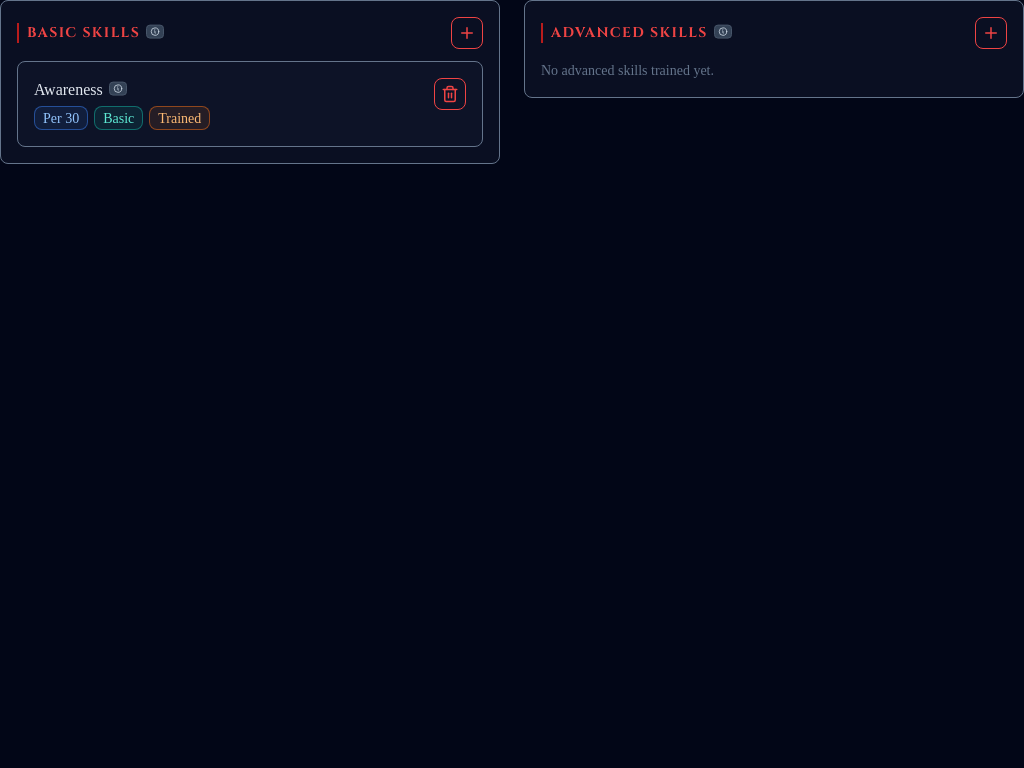
Test case: SkillsTab › uses the shared confirmation before removing a skill
Click the button named "Remove Awareness" at (450, 94), box [434,78,466,110]
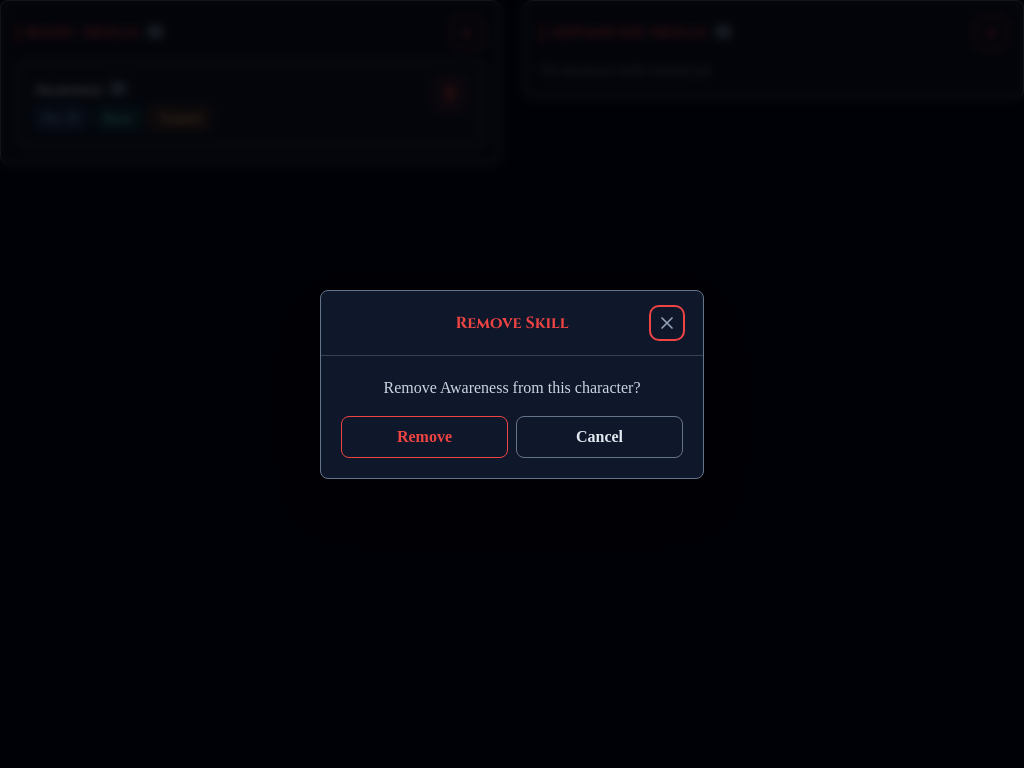
Check: the text "Remove Awareness from this character?" is shown, box [384,378,641,396]
Click the button "Cancel" at (600, 436), box [516,416,683,458]
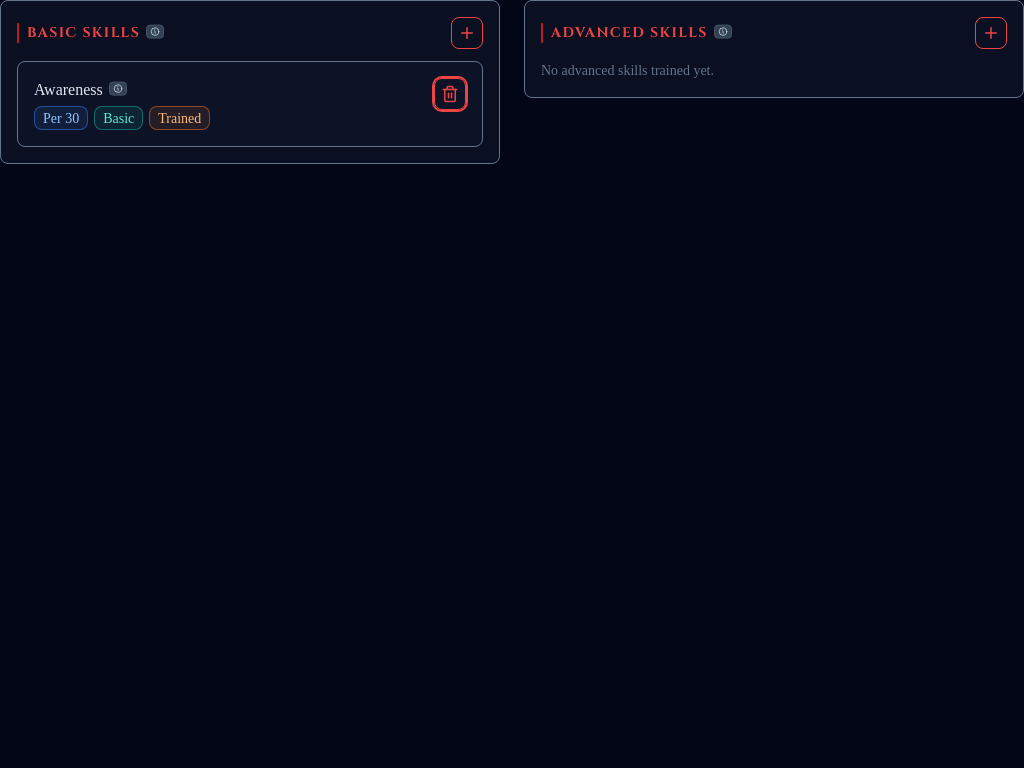
Check: the text "Remove Awareness from this character?" is gone
Click the button named "Remove Awareness" at (450, 94), box [434,78,466,110]
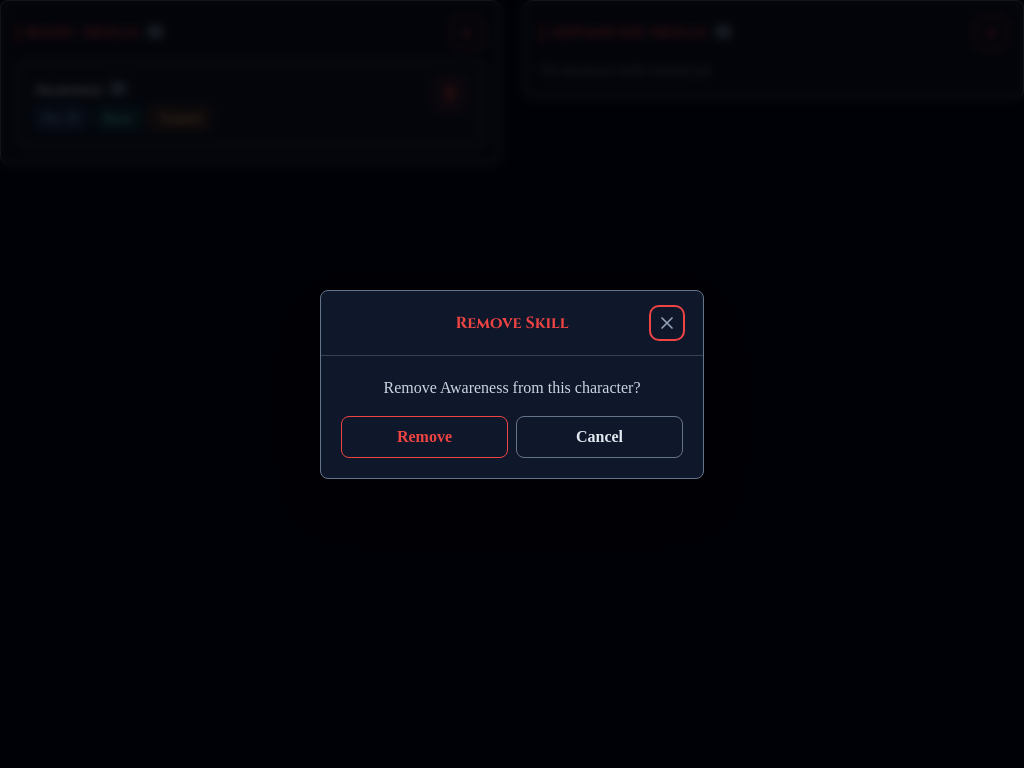
Click the button "Remove" at (424, 436), box [341,416,508,458]
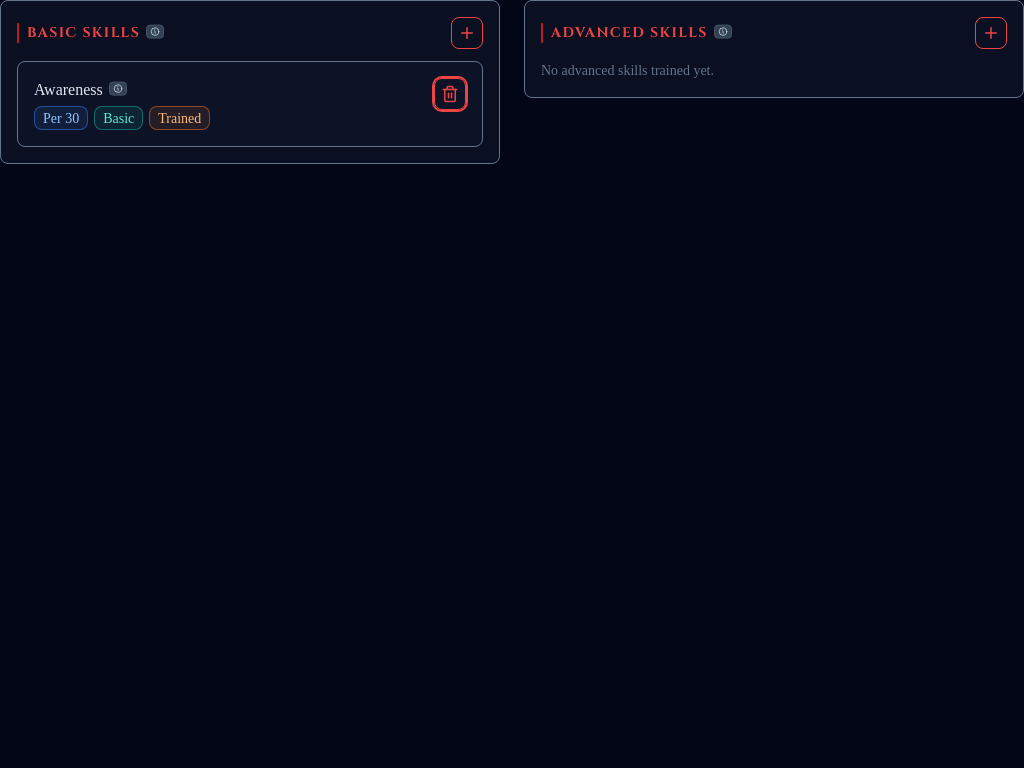
Check: the heading "Remove Skill" is gone
